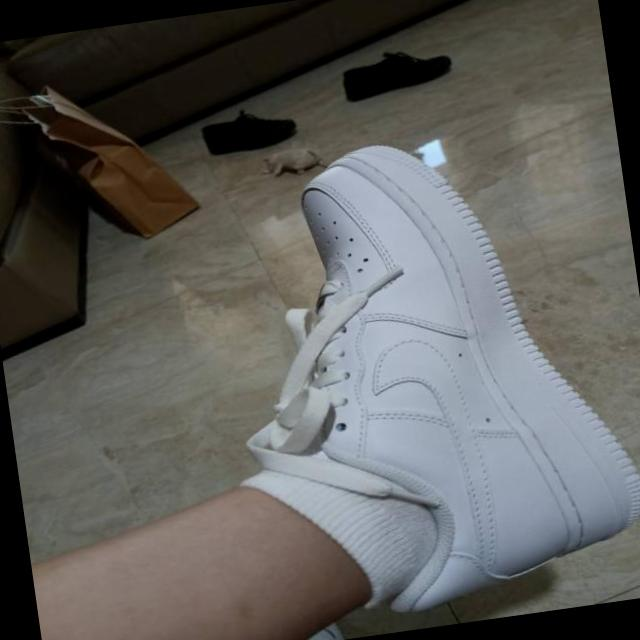nike_fake_airforce: (221, 112, 640, 635)
